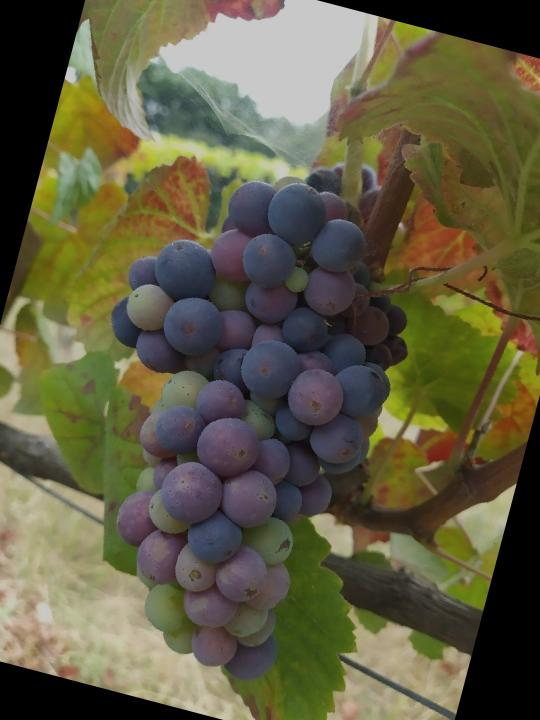grape: (26, 136, 448, 704)
